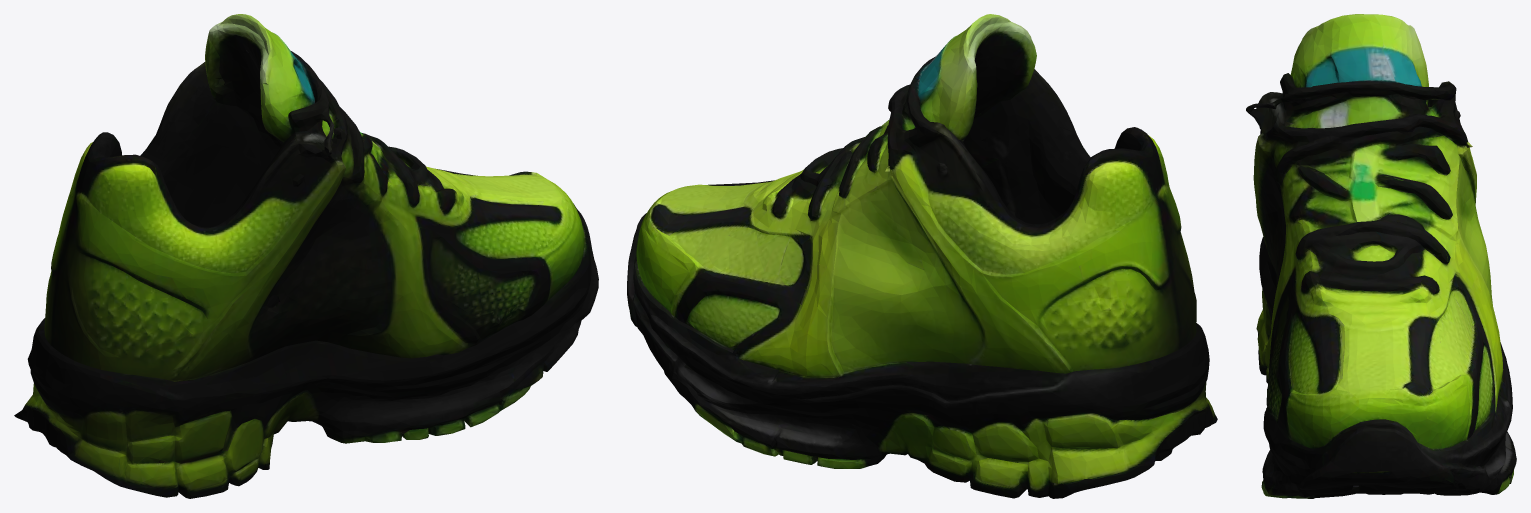
Rendered from pulso.glb.
3 renders of one model, left to right at view 1: azimuth 30°, elevation 25°; view 2: azimuth 150°, elevation 25°; view 3: azimuth 270°, elevation 25°, orthographic. The views are drawn at different scales.
Parts seen in each view (by area): view 1: geometry_0; view 2: geometry_0; view 3: geometry_0.
Boxes of the visible parts, x1,y1,x2,y2 form: geometry_0: [14, 14, 598, 498]; geometry_0: [627, 14, 1217, 498]; geometry_0: [1246, 14, 1516, 498].
Size of the model in its own units: 0.9984 by 0.7303 by 0.4456.
1 material, 1 textured.
